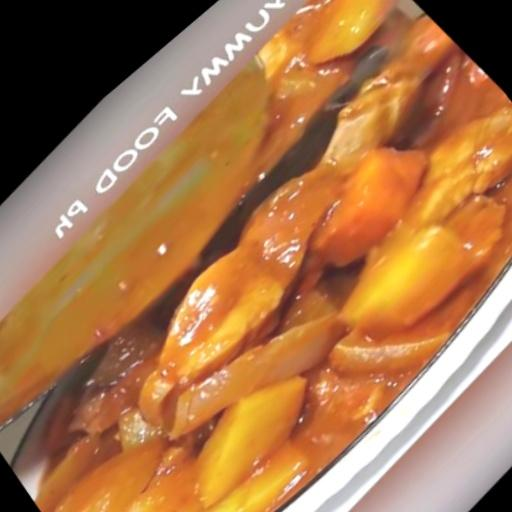pork caldereta: (50, 21, 511, 511)
